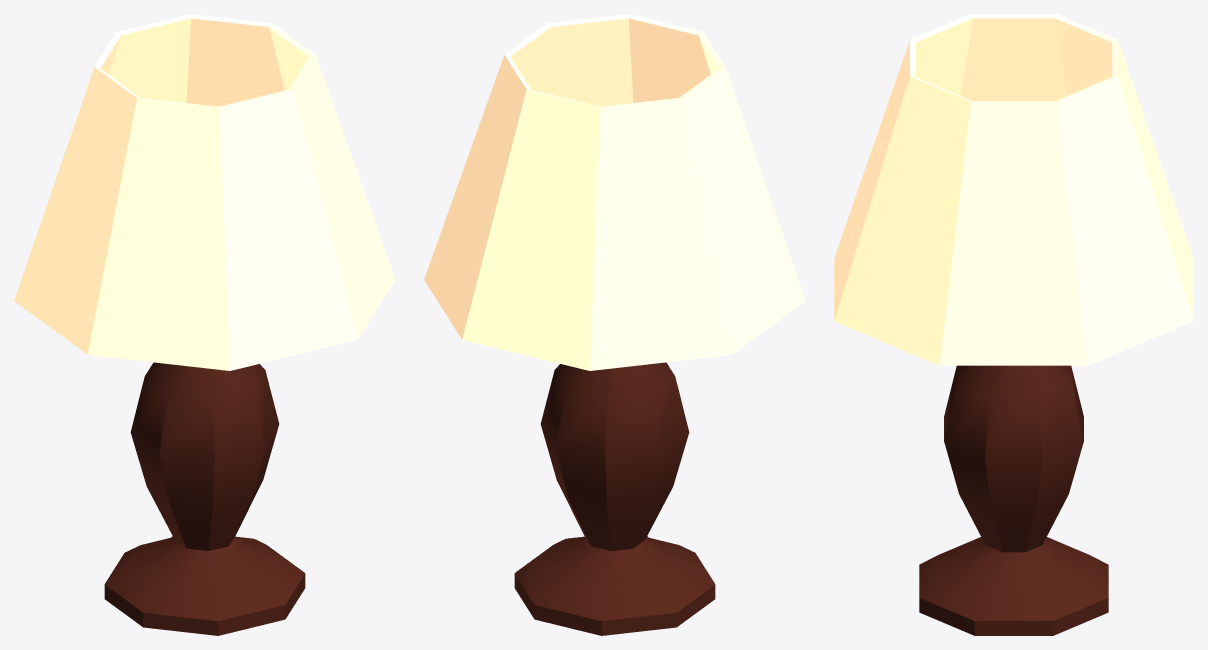
The model's file is TableLamp.glb.
3 views of the same model, side by side, from view 1: azimuth 30°, elevation 25°; view 2: azimuth 150°, elevation 25°; view 3: azimuth 270°, elevation 25° (orthographic).
Visible parts, largest first — view 1: TableLamp_Shade, TableLamp_Body; view 2: TableLamp_Shade, TableLamp_Body; view 3: TableLamp_Shade, TableLamp_Body.
Part boxes in pixels (x1,y1,x2,y2): TableLamp_Shade: [14, 14, 395, 370]; TableLamp_Body: [104, 362, 305, 635]; TableLamp_Shade: [424, 14, 805, 370]; TableLamp_Body: [514, 362, 715, 635]; TableLamp_Shade: [834, 14, 1193, 365]; TableLamp_Body: [919, 365, 1108, 635].
Size of the model in its own units: 0.3511 by 0.58 by 0.3511.
